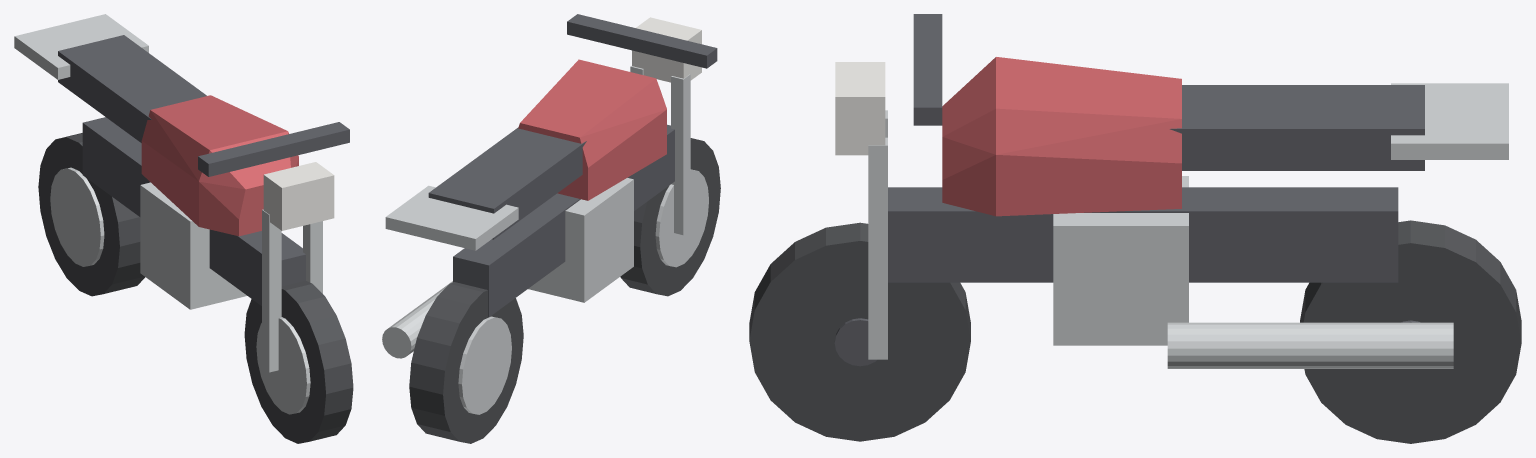
The model's file is okada.glb.
3 views of the same model, side by side, from view 1: azimuth 30°, elevation 25°; view 2: azimuth 150°, elevation 25°; view 3: azimuth 270°, elevation 25° (orthographic). The views are drawn at different scales.
Parts seen in each view (by area): view 1: fuel_tank, front_tire, frame, seat, engine, rear_tire, rear_rim, headlight, handlebar, rear_rack, front_rim, fork_-1 (+1 smaller); view 2: fuel_tank, rear_tire, frame, seat, engine, front_tire, rear_rack, rear_rim, handlebar, front_rim, fork_-1, headlight (+1 smaller); view 3: fuel_tank, frame, front_tire, rear_tire, seat, engine, exhaust, rear_rack, headlight, fork_1, handlebar, front_hub.
Part boxes in pixels (x1,y1,x2,y2): fuel_tank: (141,95,298,236); front_tire: (244,280,353,443); frame: (82,117,305,305); seat: (58,35,206,142); engine: (140,182,246,309); rear_tire: (38,133,145,296); rear_rim: (50,167,104,266); headlight: (263,162,334,230); handlebar: (198,122,349,176); rear_rack: (14,14,148,79); front_rim: (256,317,310,414); fork_-1: (262,209,281,372); fuel_tank: (518,59,666,200); rear_tire: (409,282,523,443); frame: (453,124,674,317); seat: (428,127,586,239); engine: (528,178,633,302); front_tire: (620,138,720,296); rear_rack: (385,185,518,250); rear_rim: (458,316,511,414); handlebar: (567,14,717,68); front_rim: (655,169,708,267); fork_-1: (671,74,690,235); headlight: (632,17,701,82); fuel_tank: (942,57,1181,216); frame: (888,187,1398,282); front_tire: (749,222,970,441); rear_tire: (1300,220,1521,443); seat: (1170,85,1424,170); engine: (1053,176,1188,345); exhaust: (1167,322,1453,368); rear_rack: (1391,83,1508,159); headlight: (835,62,885,155); fork_1: (868,137,887,359); handlebar: (913,14,942,125); front_hub: (834,318,876,366).
Size of the model in its own units: 0.62 by 1.15 by 2.16.
